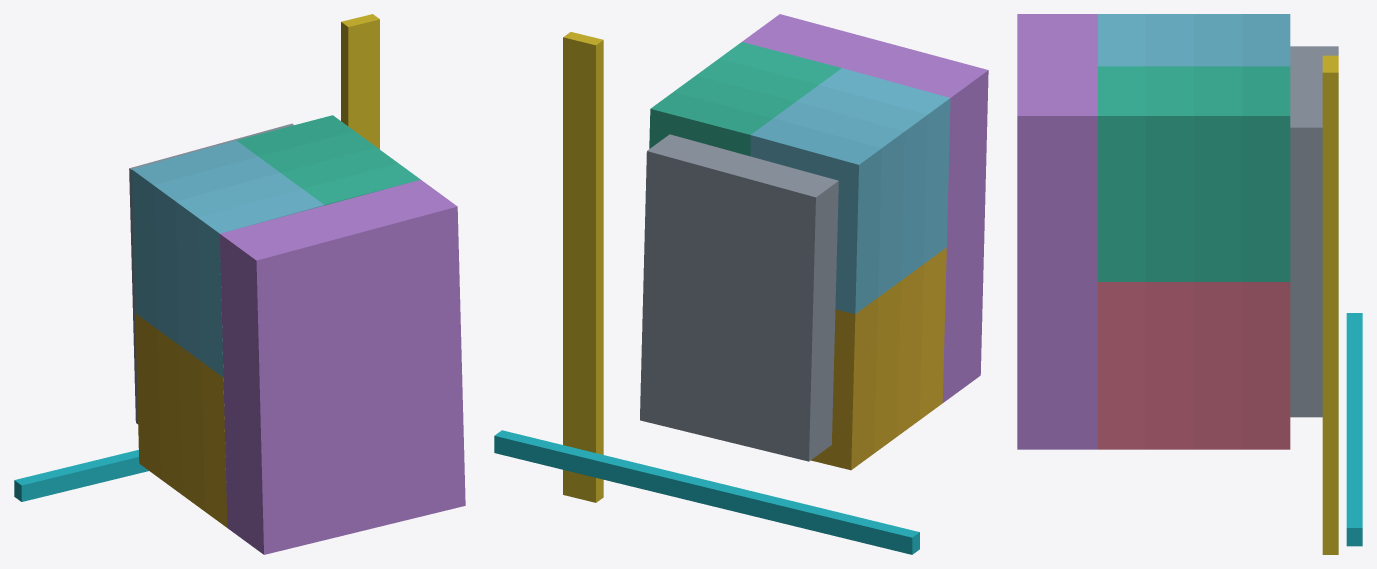
Rendered from 3d_ulpin_scene.glb.
3 renders of one model, left to right at view 1: azimuth 30°, elevation 25°; view 2: azimuth 150°, elevation 25°; view 3: azimuth 270°, elevation 25°, orthographic. The views are drawn at different scales.
Visible parts, largest first — view 1: geometry_0ad587536d4a6, geometry_021033d54597b, geometry_0, geometry_0f76dc7e1f96d, geometry_0174272c7260c, geometry_0b4066a1193d7, geometry_0f21bba7d65ac, geometry_0767d965b200e, geometry_0e2073161ef68, geometry_0c5fb4ad6ee75, geometry_0aa27940139a8, geometry_012d359dae817 (+4 smaller); view 2: geometry_02f38d95a7155, geometry_0ad587536d4a6, geometry_0b4066a1193d7, geometry_0, geometry_0aa27940139a8, geometry_0767d965b200e, geometry_0174272c7260c, geometry_0f76dc7e1f96d, geometry_021033d54597b, geometry_0afe8ce30fec2, geometry_0f21bba7d65ac, geometry_0c5fb4ad6ee75 (+4 smaller); view 3: geometry_0ad587536d4a6, geometry_02f38d95a7155, geometry_0afe8ce30fec2, geometry_0353f76c7f580, geometry_0971dc7ac666b, geometry_012d359dae817, geometry_0b4066a1193d7, geometry_0831da3b10a8c, geometry_0d4ae827d5eea, geometry_014ca3cccf567, geometry_018dc87c13e07, geometry_0aa27940139a8 (+4 smaller).
Boxes of the visible parts, bbox=[...] form: geometry_0ad587536d4a6: bbox=[220, 179, 465, 554]; geometry_021033d54597b: bbox=[197, 189, 324, 377]; geometry_0: bbox=[131, 140, 257, 328]; geometry_0f76dc7e1f96d: bbox=[153, 156, 279, 344]; geometry_0174272c7260c: bbox=[175, 172, 301, 360]; geometry_0b4066a1193d7: bbox=[341, 14, 379, 149]; geometry_0f21bba7d65ac: bbox=[201, 362, 227, 527]; geometry_0767d965b200e: bbox=[135, 313, 161, 479]; geometry_0e2073161ef68: bbox=[157, 329, 183, 495]; geometry_0c5fb4ad6ee75: bbox=[179, 345, 205, 511]; geometry_0aa27940139a8: bbox=[14, 449, 148, 501]; geometry_012d359dae817: bbox=[302, 163, 420, 205]; geometry_02f38d95a7155: bbox=[640, 134, 838, 461]; geometry_0ad587536d4a6: bbox=[742, 14, 988, 402]; geometry_0b4066a1193d7: bbox=[563, 32, 603, 502]; geometry_0: bbox=[750, 118, 881, 313]; geometry_0aa27940139a8: bbox=[494, 430, 919, 554]; geometry_0767d965b200e: bbox=[811, 298, 878, 470]; geometry_0174272c7260c: bbox=[796, 85, 927, 280]; geometry_0f76dc7e1f96d: bbox=[774, 101, 904, 296]; geometry_021033d54597b: bbox=[819, 68, 950, 263]; geometry_0afe8ce30fec2: bbox=[649, 92, 772, 156]; geometry_0f21bba7d65ac: bbox=[920, 247, 946, 419]; geometry_0c5fb4ad6ee75: bbox=[897, 264, 923, 436]; geometry_0ad587536d4a6: bbox=[1017, 14, 1097, 449]; geometry_02f38d95a7155: bbox=[1290, 46, 1338, 417]; geometry_0afe8ce30fec2: bbox=[1242, 66, 1290, 281]; geometry_0353f76c7f580: bbox=[1194, 66, 1242, 281]; geometry_0971dc7ac666b: bbox=[1145, 66, 1193, 281]; geometry_012d359dae817: bbox=[1097, 66, 1145, 281]; geometry_0b4066a1193d7: bbox=[1322, 55, 1338, 554]; geometry_0831da3b10a8c: bbox=[1242, 282, 1290, 449]; geometry_0d4ae827d5eea: bbox=[1194, 282, 1242, 449]; geometry_014ca3cccf567: bbox=[1145, 282, 1193, 449]; geometry_018dc87c13e07: bbox=[1097, 282, 1145, 449]; geometry_0aa27940139a8: bbox=[1346, 313, 1362, 546].
Size of the model in its own units: 31.66 by 33.12 by 21.5.
